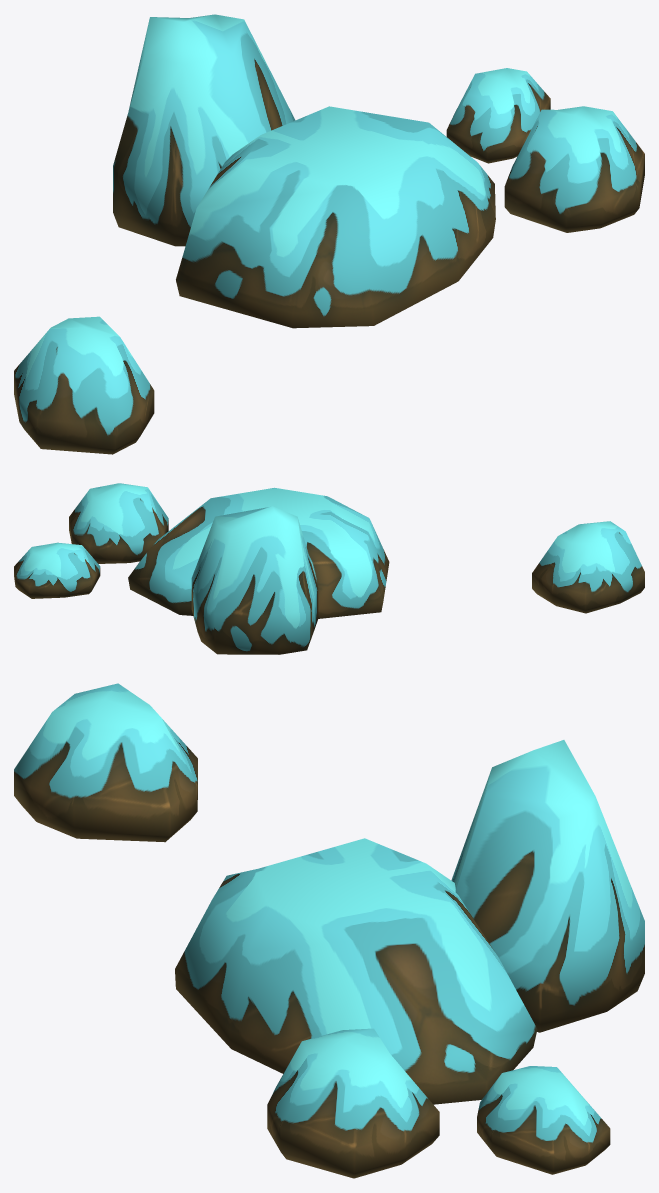
The model's file is SmallRock_Group1.FBX.
The picture shows the model from 3 angles, top to bottom: view 1: azimuth 30°, elevation 25°; view 2: azimuth 150°, elevation 25°; view 3: azimuth 270°, elevation 25°; orthographic projection. The views are drawn at different scales.
Visible parts, largest first — view 1: RockGroup1; view 2: RockGroup1; view 3: RockGroup1.
Boxes of the visible parts, x1,y1,x2,y2 form: RockGroup1: (14,14,644,454); RockGroup1: (14,483,644,654); RockGroup1: (14,683,644,1178).
Size of the model in its own units: 107 by 27.26 by 70.6.
1 material, 1 textured.
